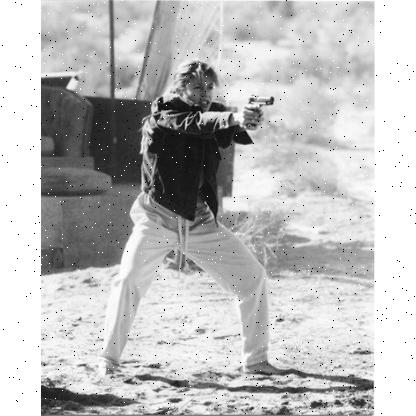gun: (242, 92, 274, 127)
